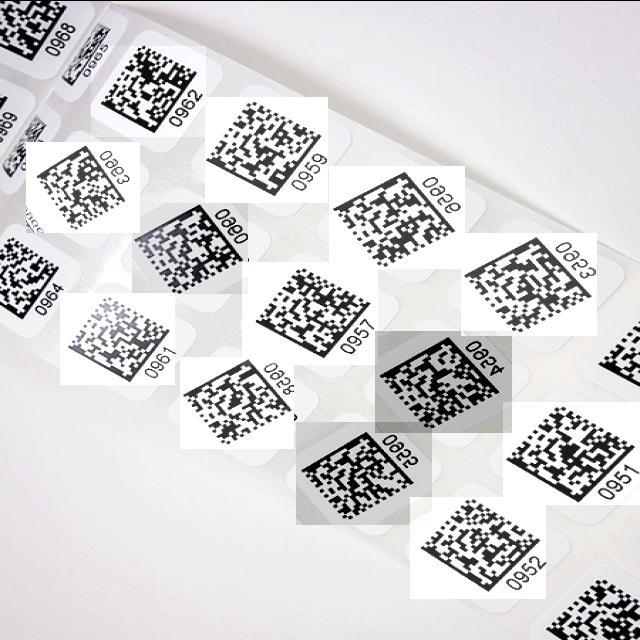Data-Matrix: (503, 401, 640, 504), (329, 165, 465, 268), (242, 261, 378, 364), (296, 421, 432, 524), (461, 232, 597, 335), (375, 330, 512, 432), (410, 496, 546, 598), (205, 96, 328, 202), (60, 292, 175, 384), (132, 202, 248, 293), (180, 356, 294, 448), (91, 45, 206, 136), (26, 141, 140, 232)
